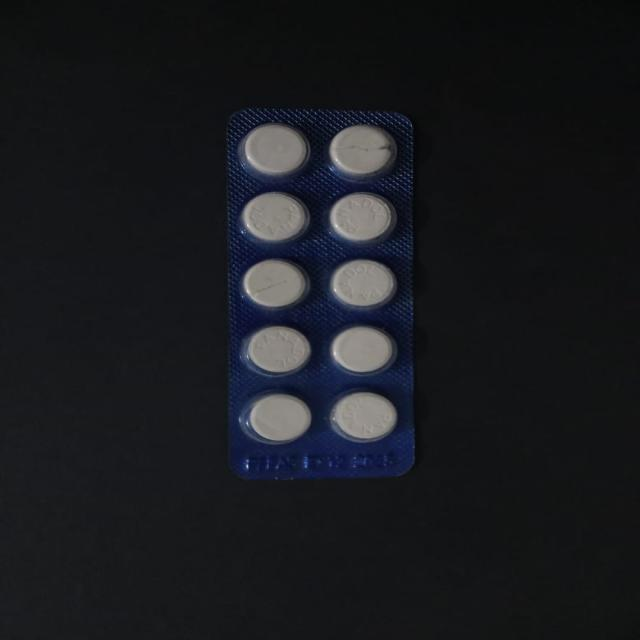defect: (326, 121, 402, 184), (236, 256, 316, 311)
